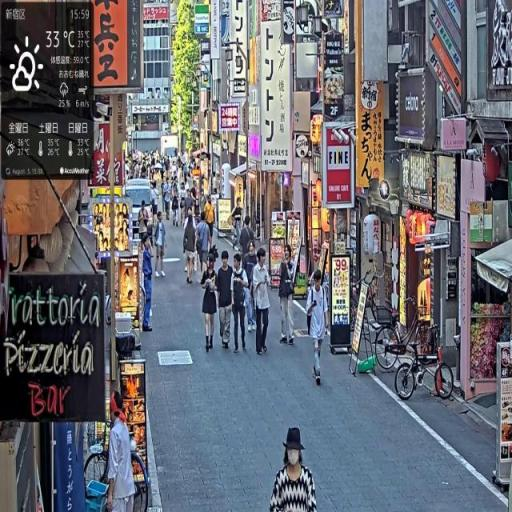person: (268, 426, 319, 512), (103, 389, 138, 512), (307, 267, 330, 389), (253, 248, 273, 358), (232, 254, 252, 355), (278, 248, 298, 348), (201, 252, 220, 354), (217, 250, 236, 351), (140, 236, 155, 333), (196, 213, 212, 283), (184, 214, 199, 286), (154, 212, 168, 279), (207, 196, 218, 249)
